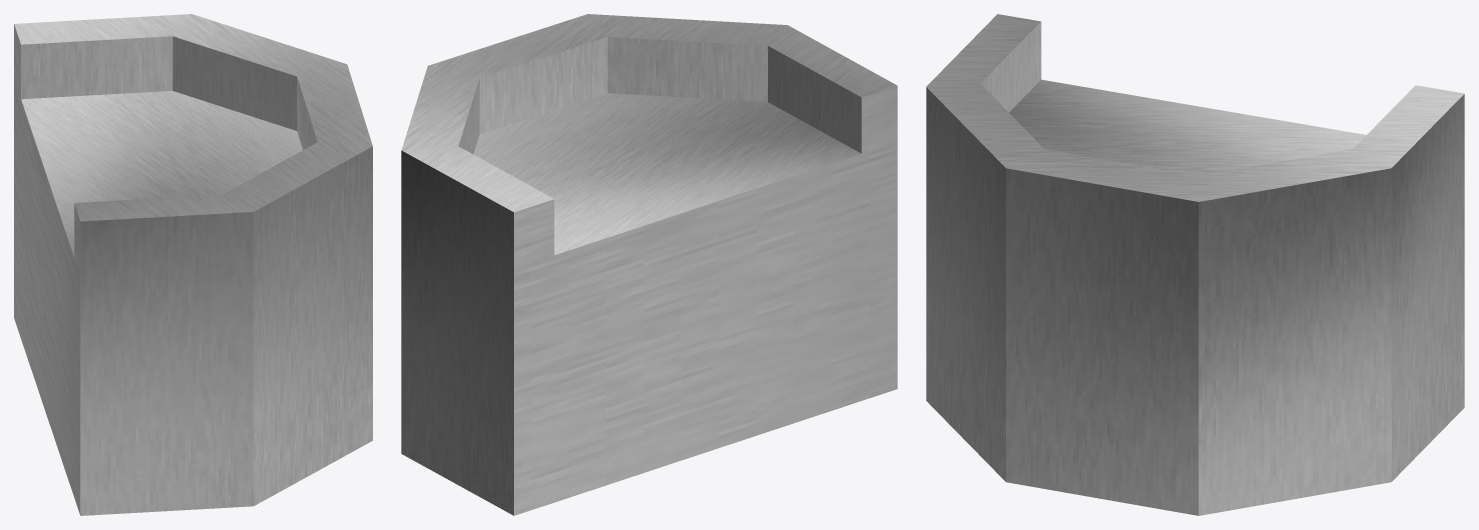
The model's file is clublstand.glb.
The picture shows the model from 3 angles, left to right: view 1: azimuth 30°, elevation 25°; view 2: azimuth 150°, elevation 25°; view 3: azimuth 270°, elevation 25°; orthographic projection. The views are drawn at different scales.
Visible parts, largest first — view 1: STAND; view 2: STAND; view 3: STAND.
Part boxes in pixels (x1,y1,x2,y2): STAND: (14, 14, 372, 515); STAND: (401, 14, 897, 515); STAND: (926, 14, 1464, 515).
Bounding box in the file's own units: 5.3 × 4.12 × 6.41.
Materials: 1 (1 with a texture image).
